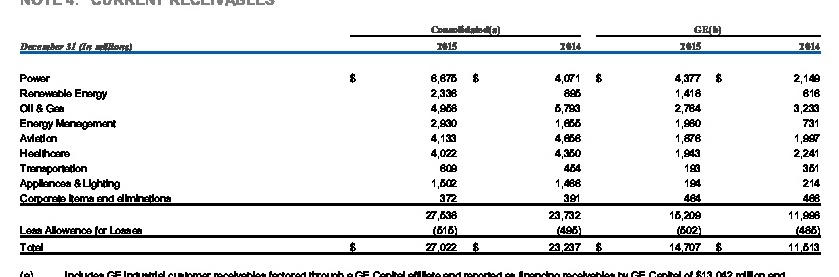table: (0, 0, 839, 277)
